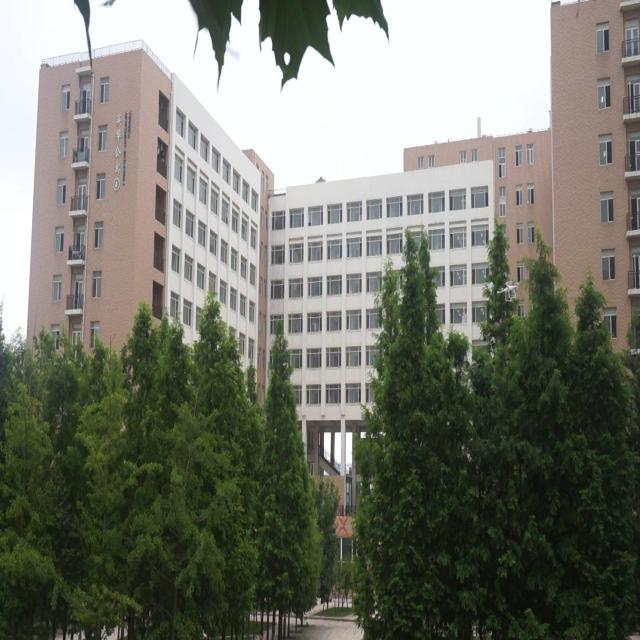drone: (499, 279, 517, 304)
